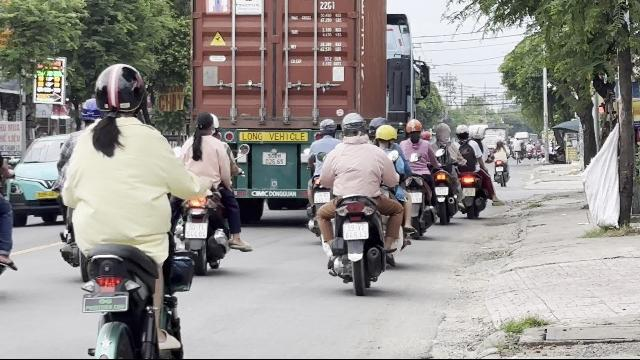helmet: (92, 62, 148, 116), (339, 111, 367, 140), (374, 122, 398, 146), (318, 118, 336, 138), (404, 119, 422, 139)
licenseplate: (344, 222, 368, 240), (184, 222, 206, 238), (314, 193, 332, 204), (408, 192, 422, 202)
motorcyclist: (54, 62, 206, 356), (309, 110, 409, 294), (176, 108, 250, 276), (392, 117, 438, 236)
nohelmet: (194, 111, 216, 135)
